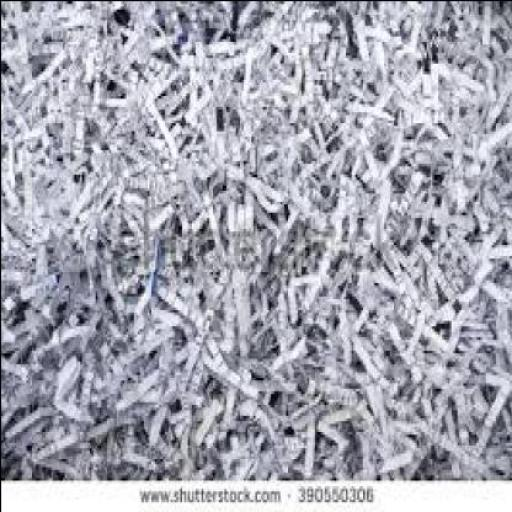paper: (1, 1, 511, 475)
